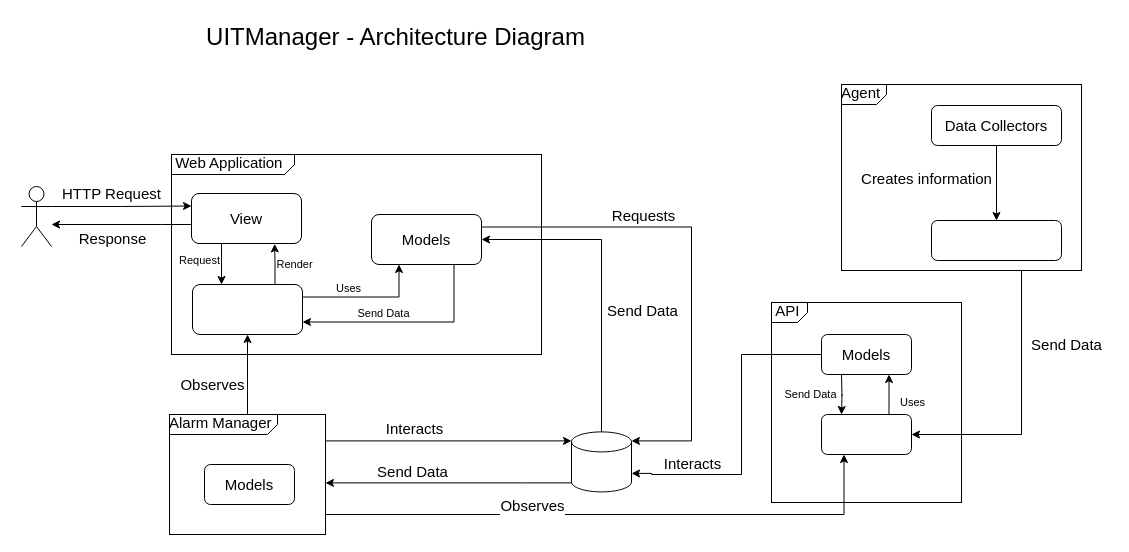
Image size: 1129x552. Some labels were removed from this diagram. The centre of each missing label's shape, as x and y in pixels:
"Basic Information" belongs at (996,240).
"Client" belongs at (36,216).
"Controller" belongs at (247,309).
"Controllers" belongs at (866,434).
"DB" belongs at (601,461).
